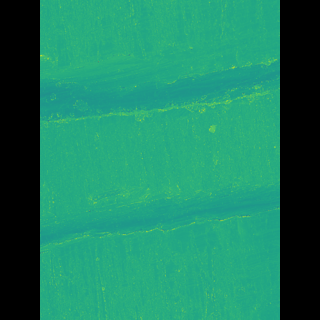Loch: (69, 175, 250, 319), (69, 0, 250, 129)
